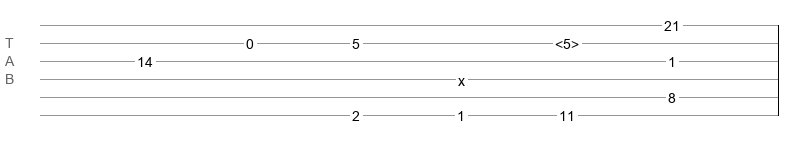0: (246, 36, 254, 46)
1: (457, 108, 465, 118), (668, 54, 676, 64)
11: (559, 108, 575, 118)
14: (137, 54, 153, 64)
2: (352, 108, 360, 118)
21: (664, 18, 680, 28)
5: (352, 36, 360, 46)
8: (668, 90, 676, 100)
harmonic: (555, 36, 579, 46)
x: (458, 73, 465, 81)
